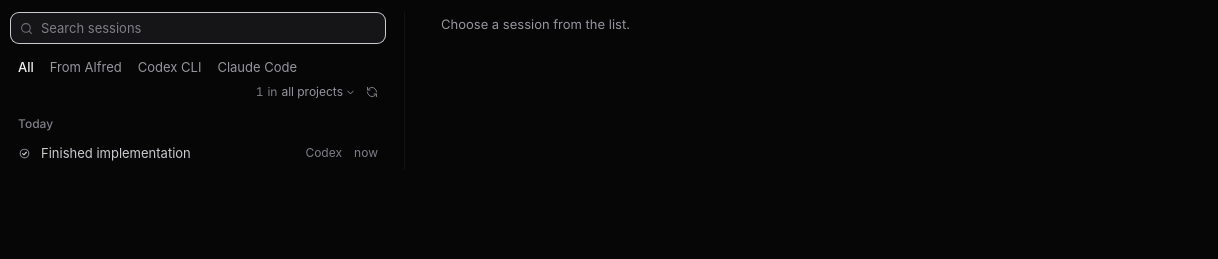
Test case: SessionsSurface › reads the cached final scrollback for an exited managed session
The width and height of the screenshot is (1218, 259).
Click the option "Finished implementation Codex now". click: (116, 153)
box: x1=8 y1=136 x2=388 y2=170
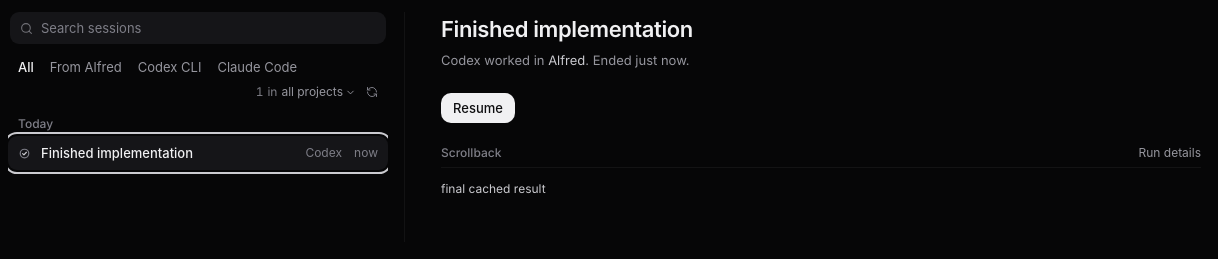
Check: the element "Finished implementation" shows "final cached result", box x1=441 y1=181 x2=546 y2=196
